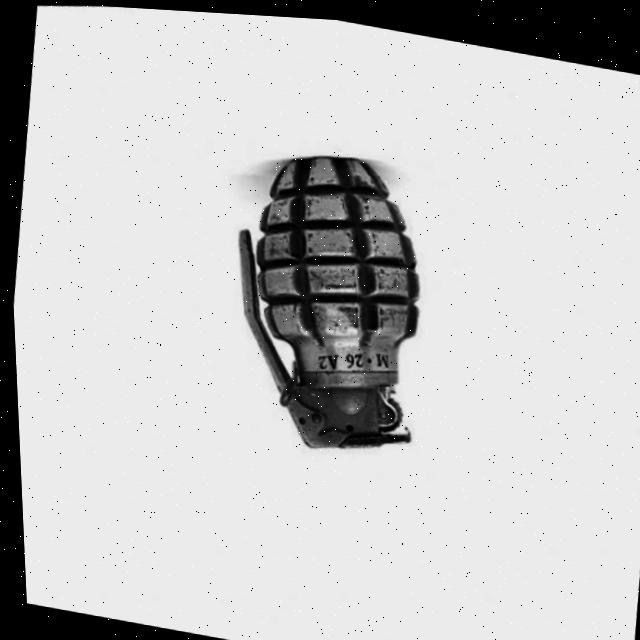grenade: (186, 121, 475, 487)
